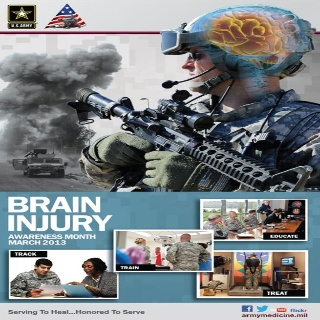rifle: (68, 86, 318, 192)
